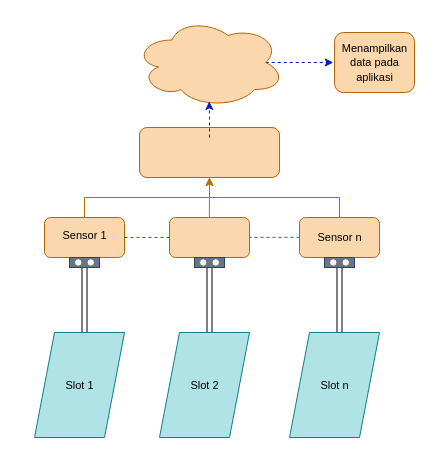
Image size: 433x455. Some labels were removed from this diagram. Each missing label, with the box of its shape:
Cloud Database: (134, 16, 284, 108)
Processor Penghitung slot parkir & pengirim dat a: (138, 126, 280, 178)
Sensor 2: (168, 216, 250, 258)
